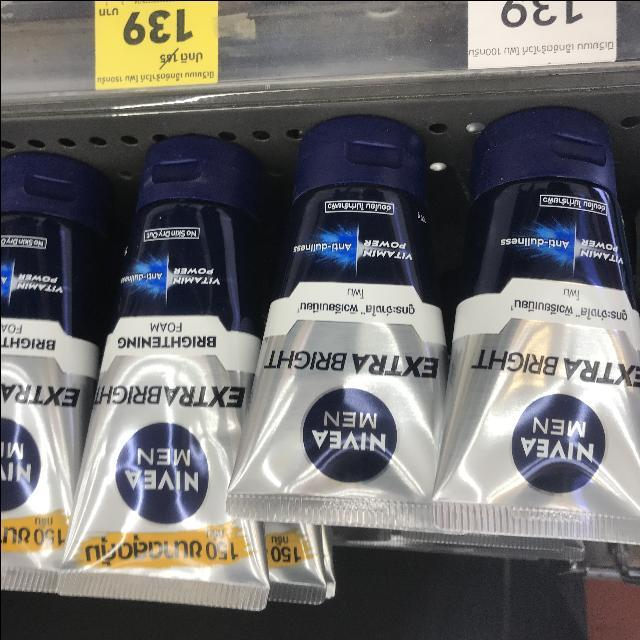Squeeze Tube: (48, 129, 272, 607), (403, 101, 638, 550), (222, 106, 433, 531), (3, 145, 116, 593)
